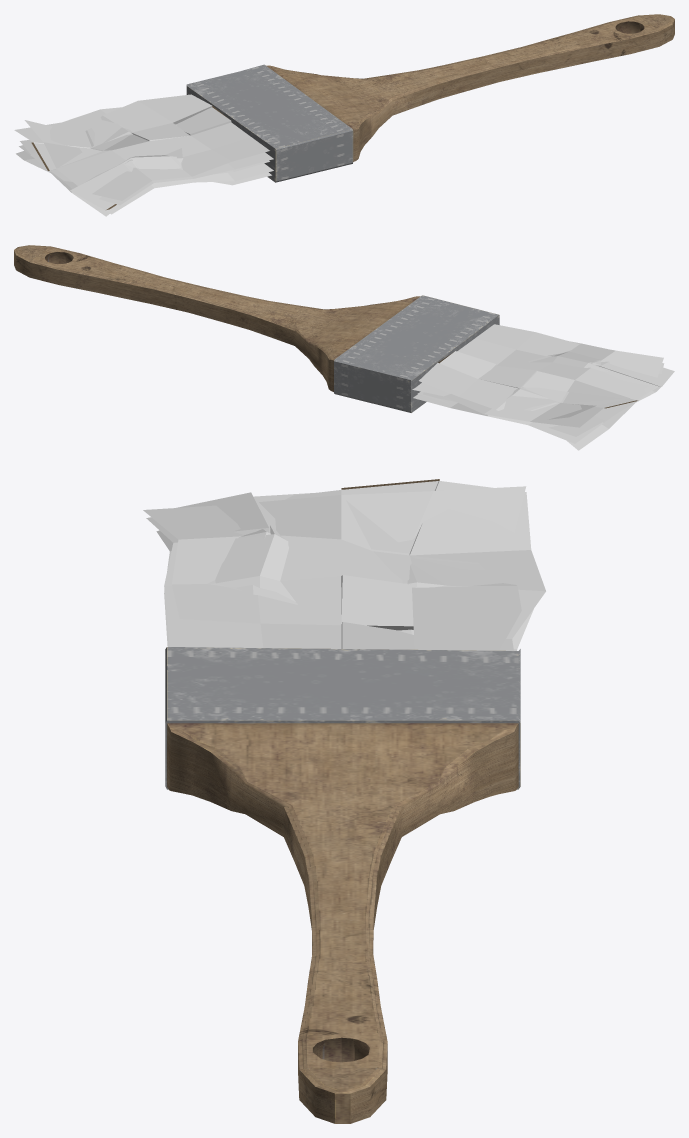
The model's file is Standard_Brush.fbx.
The picture shows the model from 3 angles, top to bottom: view 1: azimuth 30°, elevation 25°; view 2: azimuth 150°, elevation 25°; view 3: azimuth 270°, elevation 25°; orthographic projection. The views are drawn at different scales.
Visible parts, largest first — view 1: Standard_Brush; view 2: Standard_Brush; view 3: Standard_Brush.
Part boxes in pixels (x1,y1,x2,y2): Standard_Brush: [14, 14, 674, 216]; Standard_Brush: [14, 245, 674, 450]; Standard_Brush: [143, 479, 545, 1123].
Size of the model in its own units: 0.2835 by 0.0158 by 0.0795.
